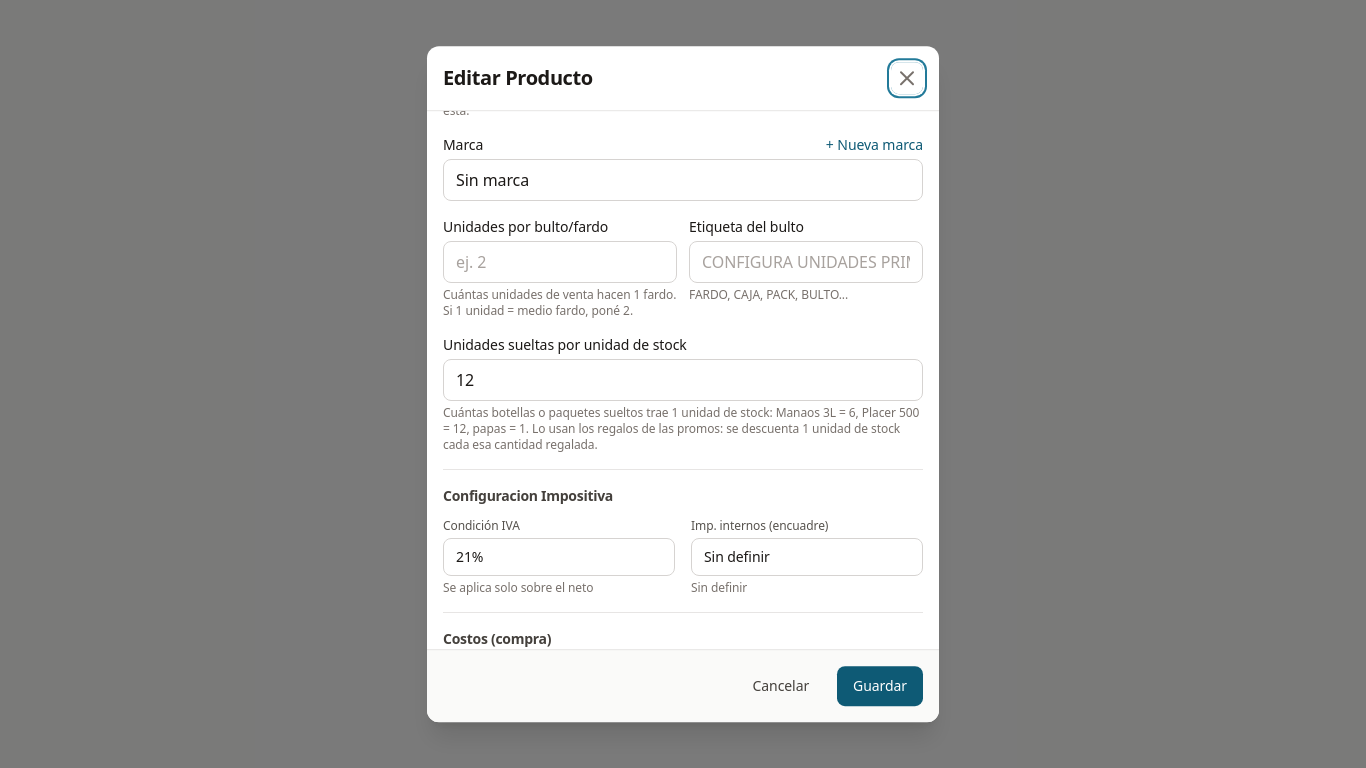
Test: ModalProducto — unidades sueltas por unidad de stock (#950) › no acepta un número con decimales
(page scrolled)
Replace the text in the number field labelled "Unidades sueltas por unidad de stock" with "1.5". click: coordinates (683, 380)
box: 443,359 -> 923,401
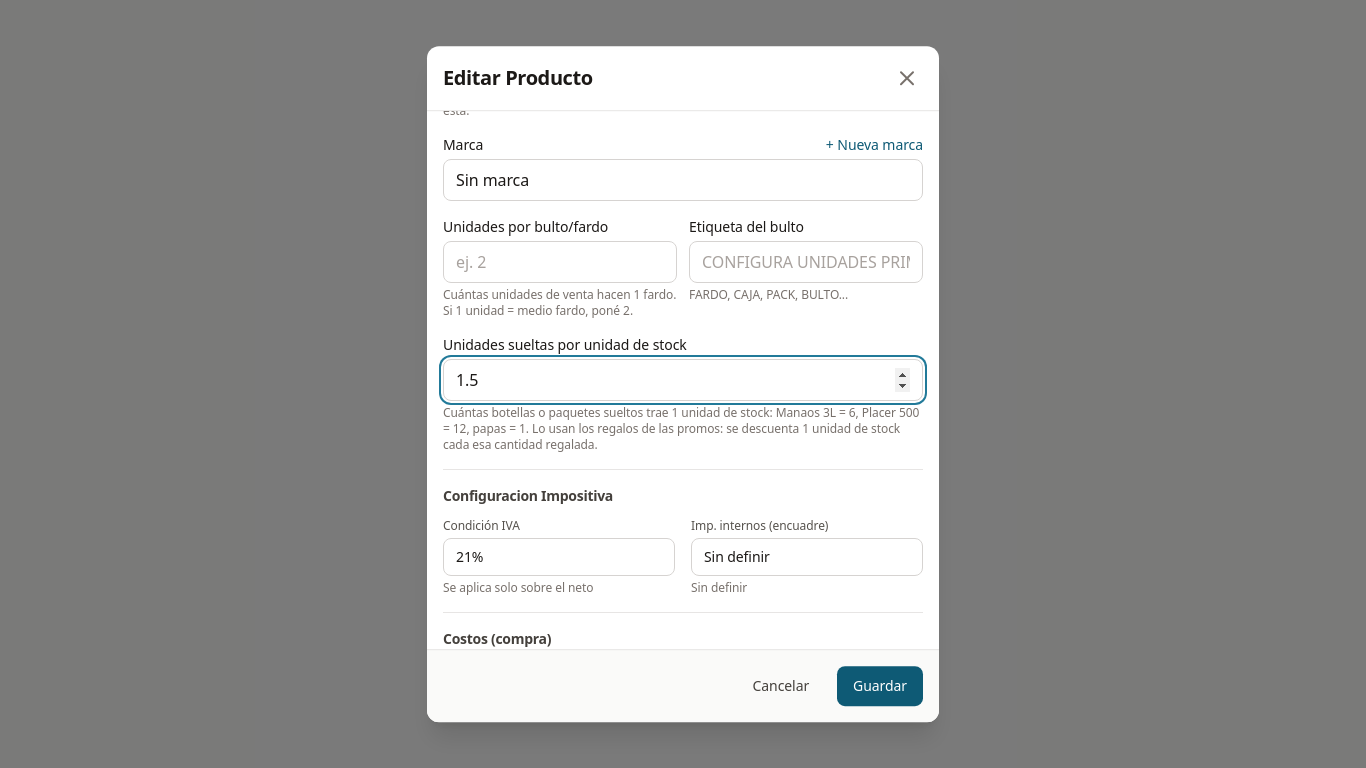
Click the button "Guardar". click: coordinates (880, 686)
box: 837,666 -> 923,706
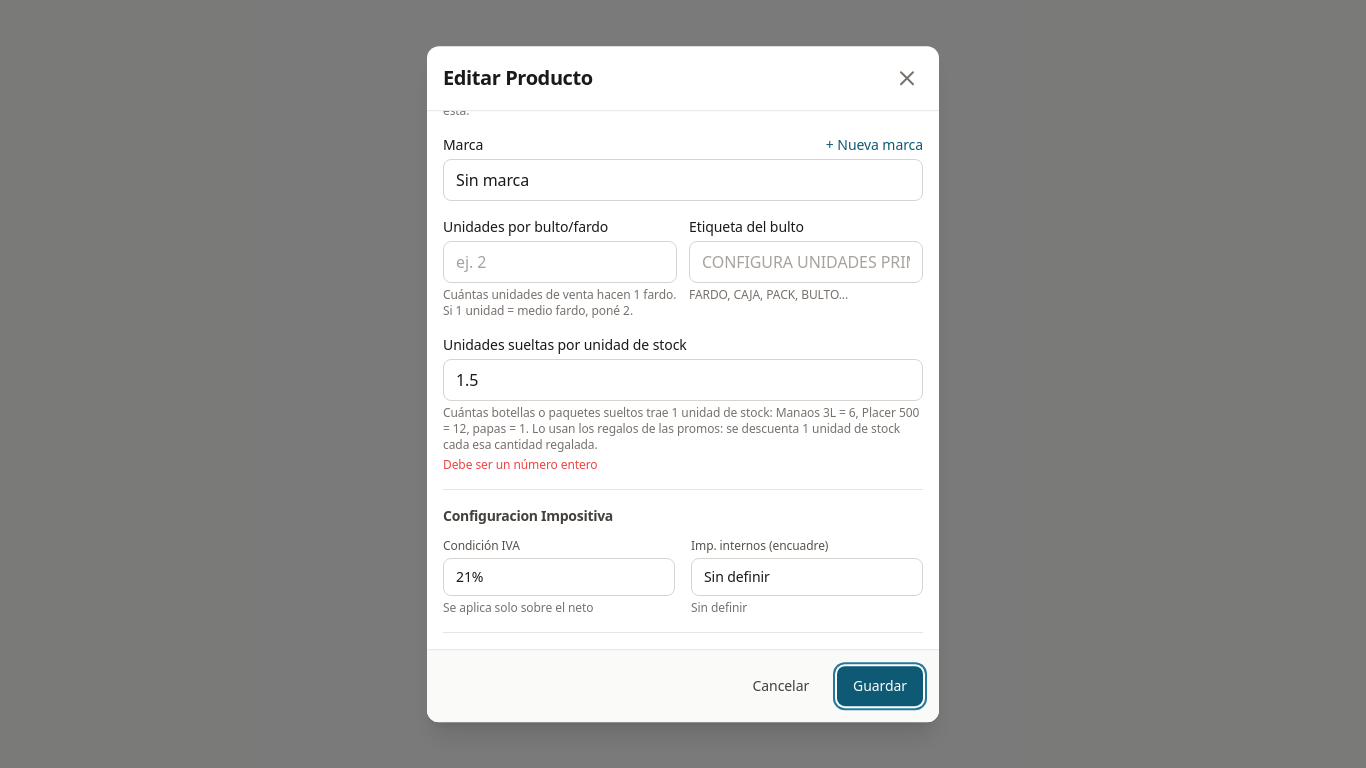
Expected: the text "Debe ser un número entero" is shown, 443,456 -> 598,473
